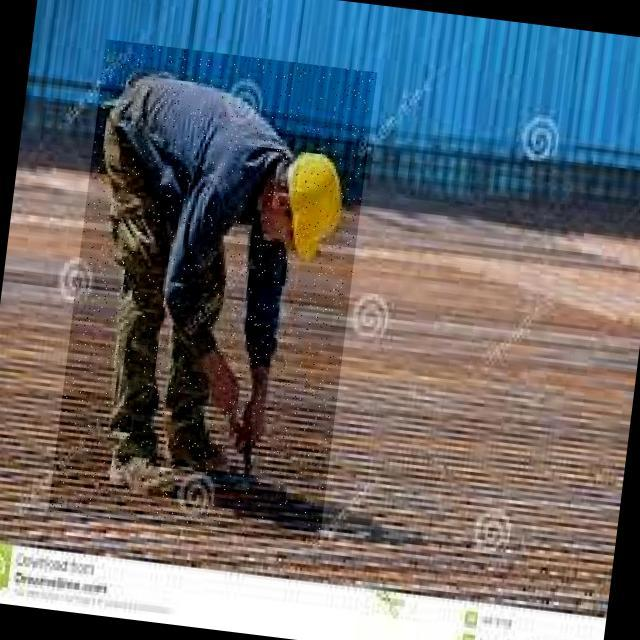Helmet: (277, 146, 357, 272)
Person: (78, 58, 374, 565)
Safety Boot: (103, 431, 190, 513), (161, 406, 238, 486)
bare-arms: (233, 372, 293, 453), (182, 340, 241, 415)
no-vest: (103, 64, 285, 375)
